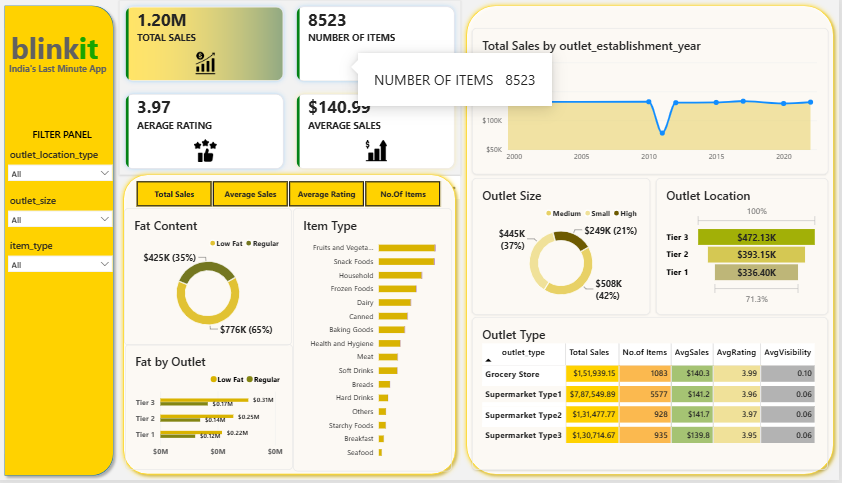

What the dashboard file says about the page in this screenshot:
{"tool":"powerbi","page":{"name":"Page 1","canvas":[1400,800],"ordinal":0},"visuals":[{"type":"shape","box":[0,0,200,802],"z":0},{"type":"textbox","box":[20.2,47,163.5,66.1],"z":1000},{"type":"textbox","box":[17,104,163.5,29.4],"z":2000},{"type":"cardVisual","fields":{"Data":["blinkit_sales.Total Sales","blinkit_sales.Number of Items","blinkit_sales.Average Rating","blinkit_sales.Average Sales"]},"box":[200,0,570,292],"z":3000},{"type":"shape","box":[198.4,281.9,571.7,518.1],"z":4000},{"type":"donutChart","title":"Fat Content","fields":{"Category":["blinkit_sales.item_fat_content"],"Y":["blinkit_sales.Total Sales"]},"box":[207.9,346.5,280,229],"z":5000},{"type":"slicer","fields":{"Values":["Metrics.Metrics"]},"box":[207.9,300.8,546.5,45.7],"z":6000},{"type":"cardVisual","fields":{"Data":["blinkit_sales.Total Sales","blinkit_sales.Average Sales","blinkit_sales.Average Rating","blinkit_sales.No.of Items"]},"box":[304,468,89.8,40.9],"z":7000},{"type":"clusteredBarChart","title":"Fat by Outlet","fields":{"Category":["blinkit_sales.outlet_location_type"],"Series":["blinkit_sales.item_fat_content"],"Y":["blinkit_sales.Total Sales"]},"box":[210,573.3,280,210],"z":8000},{"type":"barChart","title":"Item Type","fields":{"Category":["blinkit_sales.item_type"],"Y":["blinkit_sales.Total Sales","blinkit_sales.Average Sales","blinkit_sales.Average Rating","blinkit_sales.No.of Items"]},"box":[489.8,346.5,264.6,439.4],"z":9000},{"type":"shape","box":[770,0,630,800],"z":10000},{"type":"lineChart","fields":{"Category":["blinkit_sales.outlet_establishment_year"],"Y":["blinkit_sales.Total Sales"]},"box":[788.6,47.1,594.3,244.3],"z":11000},{"type":"donutChart","title":"Outlet Size","fields":{"Category":["blinkit_sales.outlet_size"],"Y":["blinkit_sales.Total Sales"]},"box":[788.3,296.7,296.7,228.3],"z":12000},{"type":"funnel","title":"Outlet Location","fields":{"Category":["blinkit_sales.outlet_location_type"],"Y":["blinkit_sales.Total Sales"]},"box":[1095,296.7,286.7,228.3],"z":13000},{"type":"pivotTable","title":"Outlet Type","fields":{"Rows":["blinkit_sales.outlet_type"],"Values":["blinkit_sales.Total Sales","blinkit_sales.No.of Items","blinkit_sales.Average Sales","blinkit_sales.Average Rating","blinkit_sales.Average Visibility"]},"box":[788.3,528.3,593.3,255],"z":13001},{"type":"slicer","fields":{"Values":["blinkit_sales.outlet_location_type"]},"box":[10,246,184,70],"z":13002},{"type":"slicer","fields":{"Values":["blinkit_sales.item_type"]},"box":[10,398,184,70],"z":13003},{"type":"slicer","fields":{"Values":["blinkit_sales.outlet_size"]},"box":[10,324,184,70],"z":13004},{"type":"textbox","box":[10,214,190,32],"z":13005}]}

Visuals, with their boxes in screenshot pixels (x1, y1, x2, y2), scaled from the page's 1400x800 canvas onto the 842x483 screenshot:
shape: region(0, 0, 120, 482)
textbox: region(12, 28, 110, 68)
textbox: region(10, 63, 109, 81)
cardVisual - blinkit_sales.Total Sales x blinkit_sales.Number of Items: region(120, 0, 463, 176)
shape: region(119, 170, 463, 482)
"Fat Content" donutChart: region(125, 209, 293, 347)
slicer - Metrics.Metrics: region(125, 182, 454, 209)
cardVisual - blinkit_sales.Total Sales x blinkit_sales.Average Sales: region(183, 283, 237, 307)
"Fat by Outlet" clusteredBarChart: region(126, 346, 295, 473)
"Item Type" barChart: region(295, 209, 454, 474)
shape: region(463, 0, 841, 482)
lineChart - blinkit_sales.outlet_establishment_year x blinkit_sales.Total Sales: region(474, 28, 832, 176)
"Outlet Size" donutChart: region(474, 179, 653, 317)
"Outlet Location" funnel: region(659, 179, 831, 317)
"Outlet Type" pivotTable: region(474, 319, 831, 473)
slicer - blinkit_sales.outlet_location_type: region(6, 149, 117, 191)
slicer - blinkit_sales.item_type: region(6, 240, 117, 283)
slicer - blinkit_sales.outlet_size: region(6, 196, 117, 238)
textbox: region(6, 129, 120, 149)
